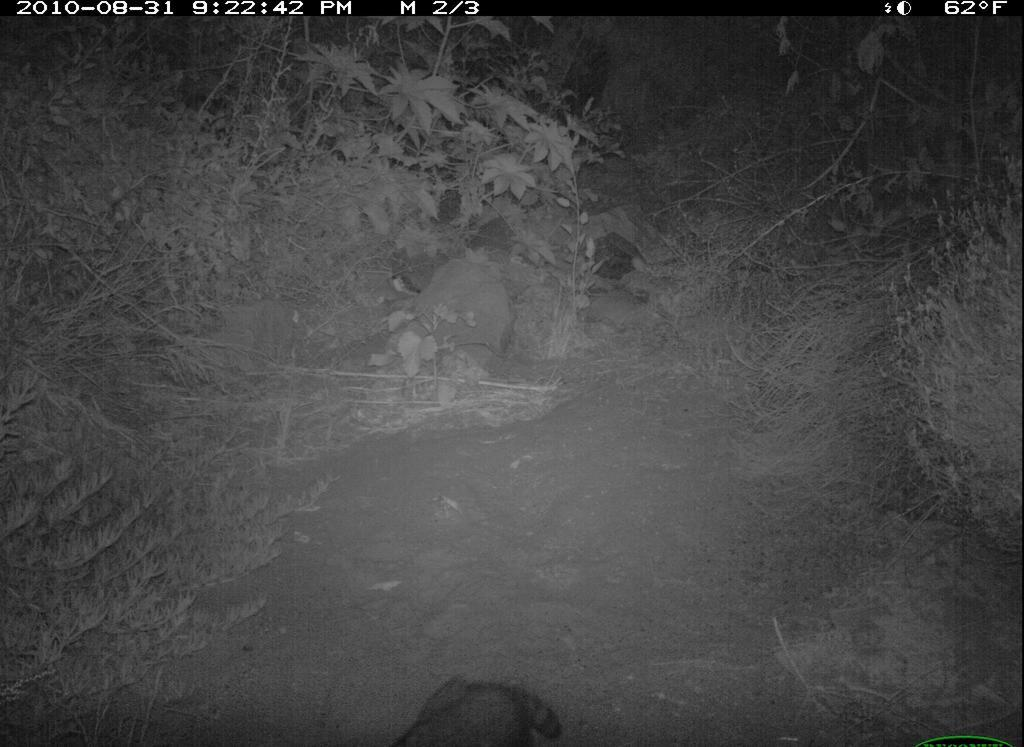raccoon: (382, 651, 574, 747)
